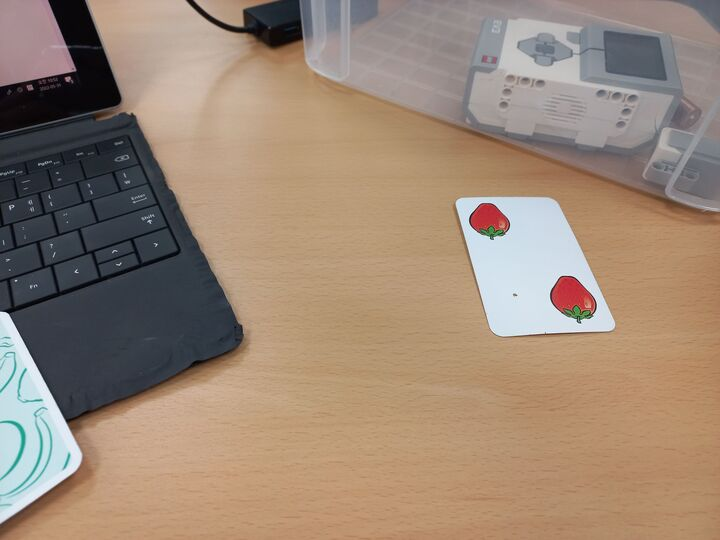strawberry2: (452, 193, 619, 340)
